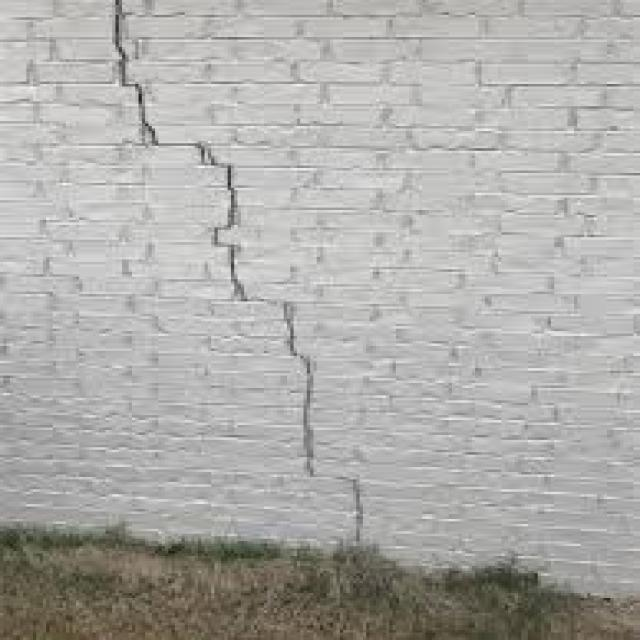Crack: (102, 0, 363, 546)
